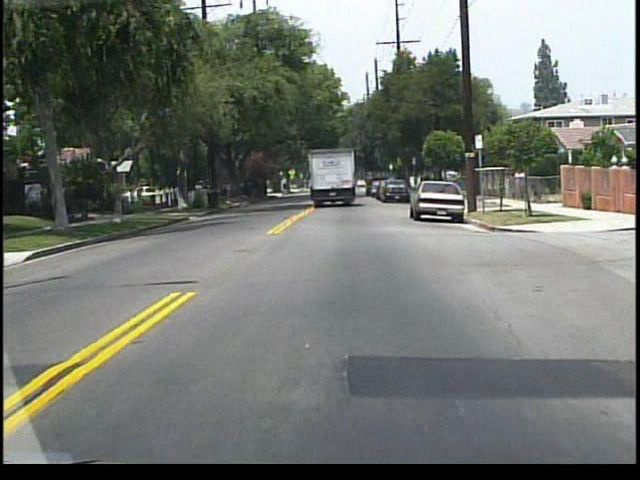person: (510, 164, 525, 201)
